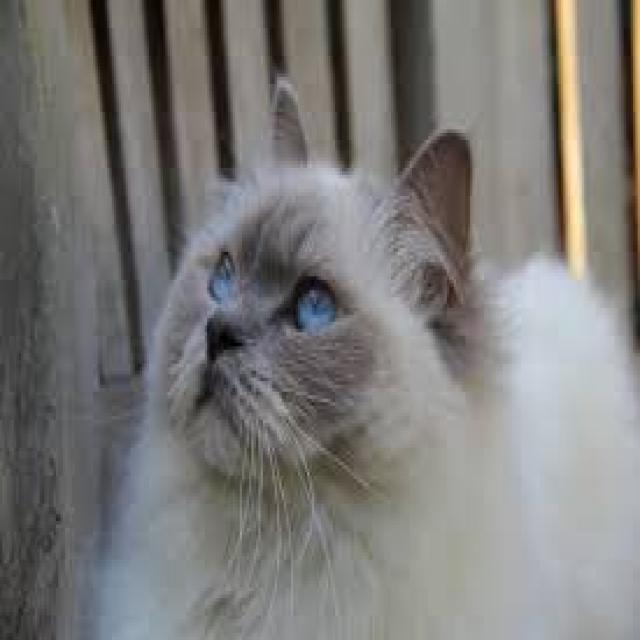Cat: (107, 75, 640, 639)
